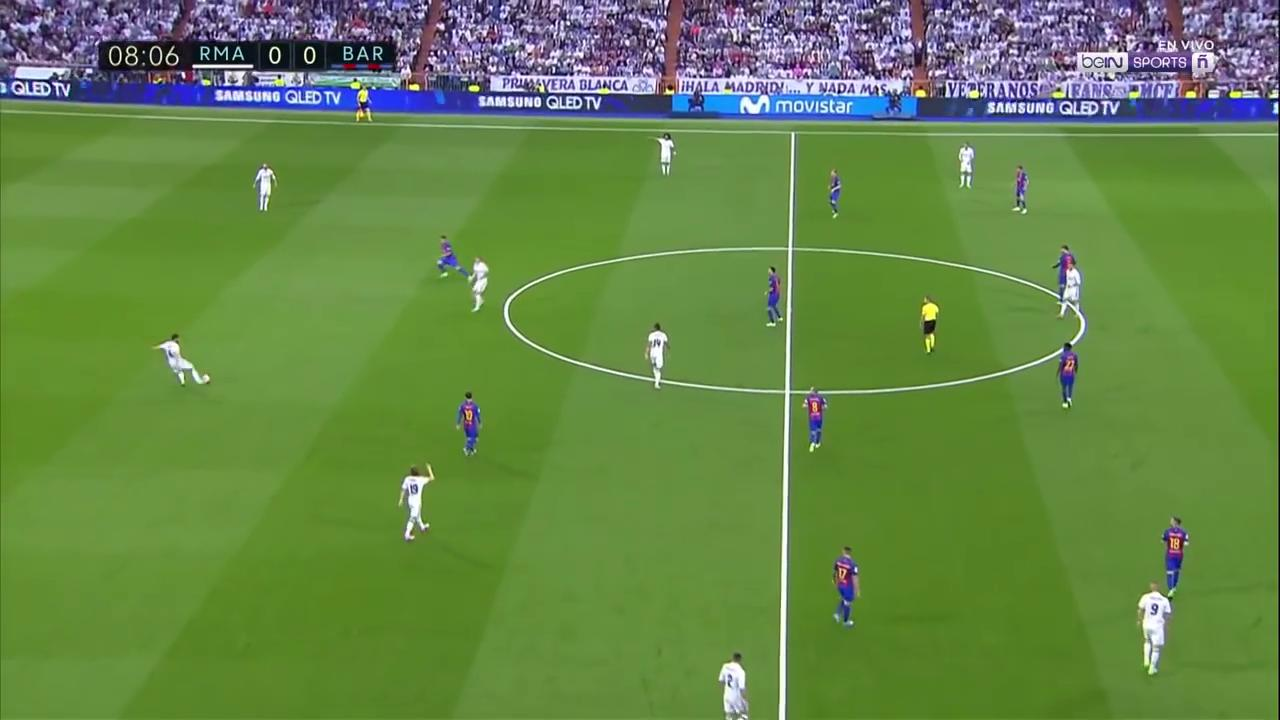ball: (199, 372, 212, 387)
player: (392, 459, 442, 541), (1131, 579, 1172, 677), (149, 330, 209, 387), (830, 541, 862, 632), (1163, 512, 1195, 599), (452, 390, 484, 459), (800, 383, 830, 456), (427, 236, 473, 281), (720, 651, 750, 720), (641, 322, 671, 391), (1054, 341, 1082, 410), (1047, 241, 1075, 304), (915, 294, 943, 354), (641, 133, 680, 176), (762, 264, 784, 330), (1058, 261, 1082, 319), (252, 160, 276, 213), (823, 166, 844, 221), (469, 259, 490, 313), (1010, 163, 1030, 219), (958, 140, 975, 190)
